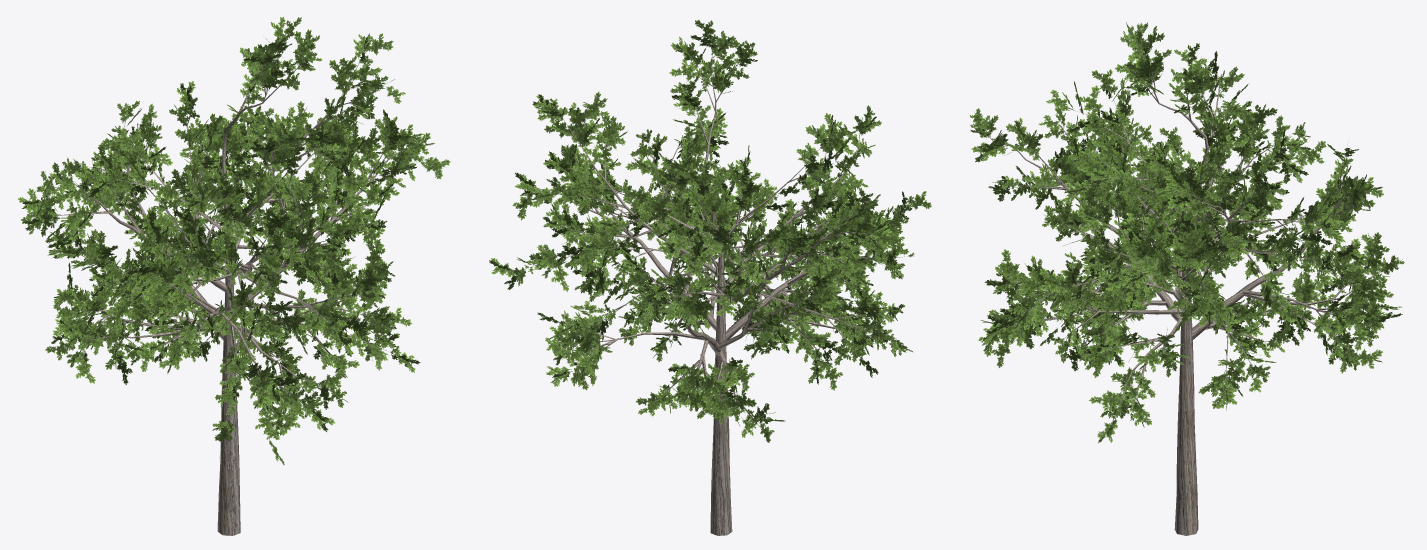
The model's file is OakMeadow.glb.
3 renders of one model, left to right at view 1: azimuth 30°, elevation 25°; view 2: azimuth 150°, elevation 25°; view 3: azimuth 270°, elevation 25°, orthographic. The views are drawn at different scales.
Parts seen in each view (by area): view 1: OakMeadow canopy, OakMeadow trunk; view 2: OakMeadow canopy, OakMeadow trunk; view 3: OakMeadow canopy, OakMeadow trunk.
Part boxes in pixels (box(x1,y1,x2,y2)): OakMeadow canopy: box(18, 16, 450, 464); OakMeadow trunk: box(47, 50, 416, 535); OakMeadow canopy: box(489, 20, 931, 442); OakMeadow trunk: box(524, 50, 904, 535); OakMeadow canopy: box(969, 22, 1404, 443); OakMeadow trunk: box(984, 48, 1383, 535).
Bounding box in the file's own units: 10.81 × 13.2 × 10.11.
Materials: 2 (2 with a texture image).
